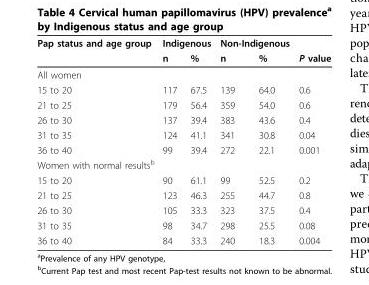table: (36, 36, 330, 245)
table column: (36, 36, 157, 245), (246, 36, 293, 245), (293, 36, 330, 245), (214, 36, 246, 245), (183, 36, 214, 245), (157, 36, 183, 245)
table column header: (36, 36, 330, 66)
table projected row header: (36, 156, 330, 172), (36, 66, 330, 81)
table row: (36, 50, 330, 66), (36, 81, 330, 97), (36, 156, 330, 172), (36, 66, 330, 81), (36, 97, 330, 112), (36, 112, 330, 127), (36, 127, 330, 142), (36, 172, 330, 187), (36, 187, 330, 202), (36, 202, 330, 217), (36, 217, 330, 232), (36, 36, 330, 50), (36, 142, 330, 156), (36, 232, 330, 245)
table spanning cell: (36, 36, 157, 66), (293, 36, 330, 66), (214, 36, 293, 50), (157, 36, 214, 50)
